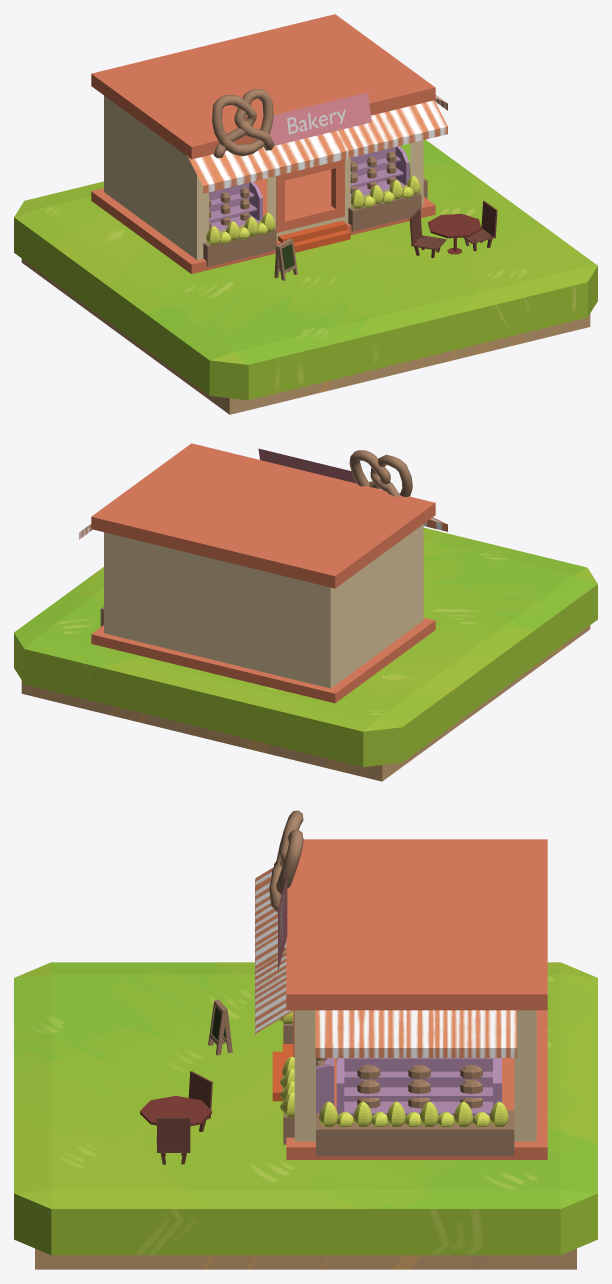
Rendered from gemeinde_baeckerei.fbx.
The picture shows the model from 3 angles, top to bottom: view 1: azimuth 30°, elevation 25°; view 2: azimuth 150°, elevation 25°; view 3: azimuth 270°, elevation 25°; orthographic projection. The views are drawn at different scales.
Visible parts, largest first — view 1: Cube.022, Cube.001, Cube, Plane.001, Cube.021, breads, Cube.004, pretzel, Plane, Cube.002, long.004, chairs (+4 smaller); view 2: Cube.022, Cube.001, Cube, Cube.021, pretzel, Plane; view 3: Cube.022, Cube.001, Plane.001, breads, Cube.021, Cube.004, Cube, long.004, chairs, pretzel, table, short (+3 smaller).
Part boxes in pixels (x1=…): Cube.022: x1=14, y1=139, x2=597, y2=400; Cube.001: x1=91, y1=14, x2=435, y2=273; Cube: x1=104, y1=95, x2=423, y2=259; Plane.001: x1=187, y1=95, x2=447, y2=193; Cube.021: x1=21, y1=258, x2=590, y2=414; breads: x1=209, y1=146, x2=409, y2=230; Cube.004: x1=203, y1=178, x2=427, y2=266; pretzel: x1=212, y1=89, x2=274, y2=158; Plane: x1=269, y1=92, x2=371, y2=145; Cube.002: x1=276, y1=159, x2=344, y2=232; long.004: x1=206, y1=165, x2=420, y2=245; chairs: x1=409, y1=201, x2=497, y2=258; Cube.022: x1=14, y1=527, x2=597, y2=766; Cube.001: x1=91, y1=443, x2=435, y2=703; Cube: x1=104, y1=524, x2=423, y2=688; Cube.021: x1=21, y1=625, x2=590, y2=781; pretzel: x1=349, y1=450, x2=412, y2=496; Plane: x1=258, y1=448, x2=356, y2=483; Cube.022: x1=14, y1=962, x2=597, y2=1255; Cube.001: x1=286, y1=839, x2=547, y2=1159; Plane.001: x1=255, y1=867, x2=516, y2=1057; breads: x1=316, y1=1058, x2=501, y2=1117; Cube.021: x1=35, y1=1248, x2=576, y2=1269; Cube.004: x1=283, y1=1023, x2=514, y2=1156; Cube: x1=294, y1=1010, x2=536, y2=1141; long.004: x1=279, y1=1011, x2=508, y2=1126; chairs: x1=156, y1=1071, x2=212, y2=1164; pretzel: x1=269, y1=810, x2=303, y2=912; table: x1=140, y1=1096, x2=211, y2=1126; short: x1=280, y1=1076, x2=490, y2=1126.
Bounding box in the file's own units: 108 × 58.84 × 108.
14 materials, 3 textured.
